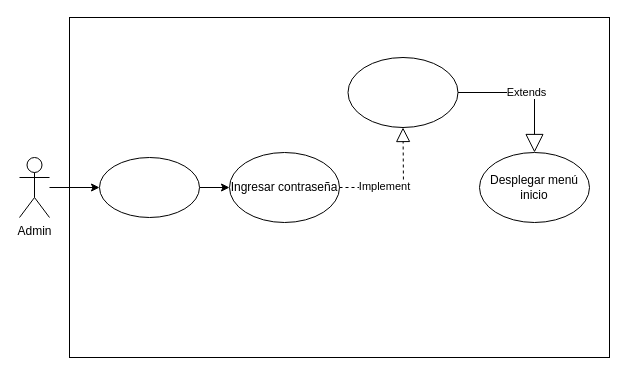
The diagram is 627 pixels wide and 375 high, and some of its shapes have lost their labels. The centre of each missing label's shape, as x and y in pixels:
"Ingresar usuario" goes at (149,187).
"Iniciar sesión" goes at (402,92).
